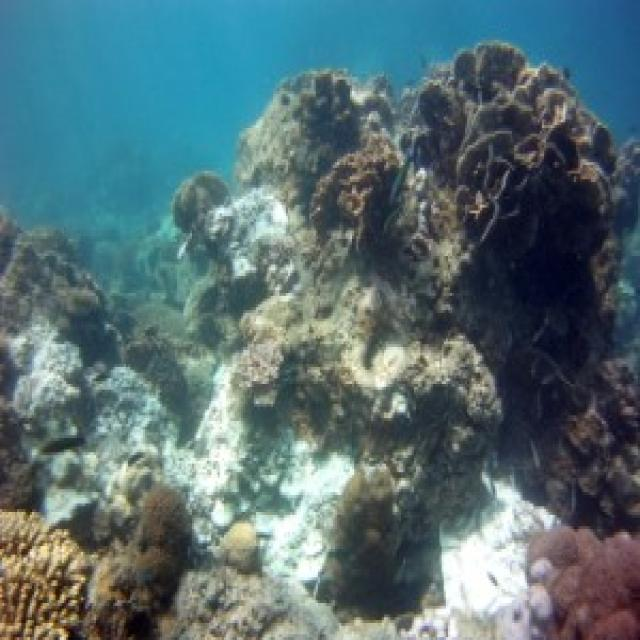Bleached: (434, 479, 554, 638), (176, 362, 248, 533), (10, 322, 91, 450), (93, 365, 172, 462), (204, 189, 287, 277), (42, 439, 116, 522), (259, 507, 325, 578)
